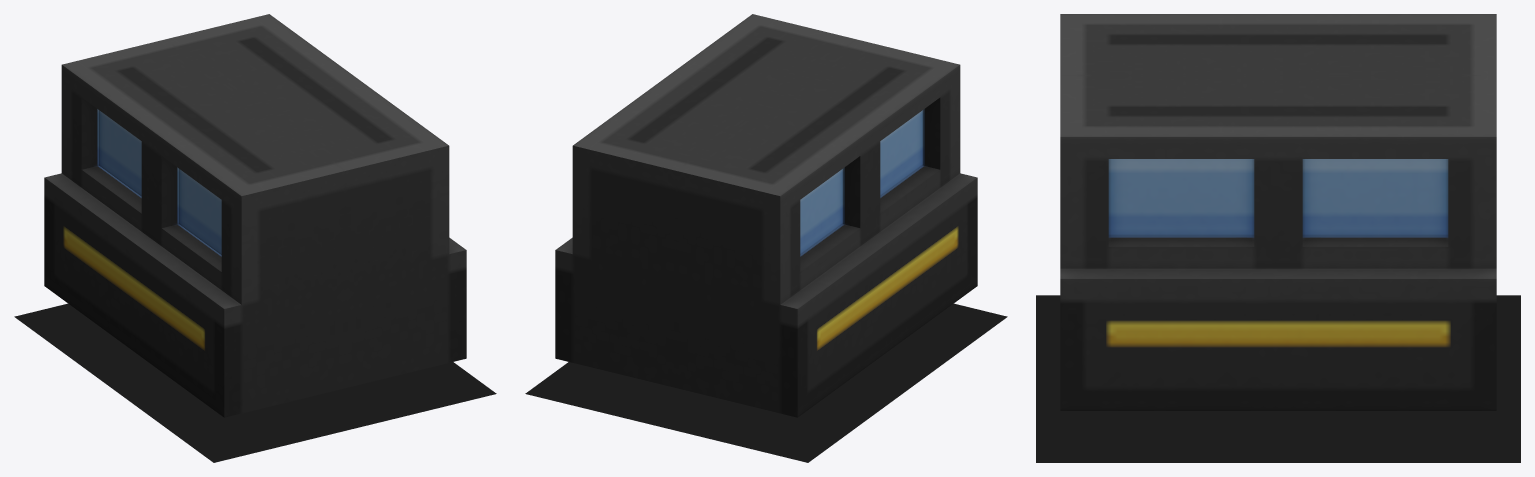
File: limousine_body.FBX
3 views of the same model, side by side, from view 1: azimuth 30°, elevation 25°; view 2: azimuth 150°, elevation 25°; view 3: azimuth 270°, elevation 25° (orthographic). The views are drawn at different scales.
Visible parts, largest first — view 1: limousine_body, limousine_body_soft_shadow; view 2: limousine_body, limousine_body_soft_shadow; view 3: limousine_body, limousine_body_soft_shadow.
Part boxes in pixels (bbox=[...]): limousine_body: bbox=[44, 14, 466, 417]; limousine_body_soft_shadow: bbox=[14, 303, 496, 462]; limousine_body: bbox=[555, 14, 977, 417]; limousine_body_soft_shadow: bbox=[525, 303, 1007, 462]; limousine_body: bbox=[1060, 14, 1496, 410]; limousine_body_soft_shadow: bbox=[1036, 295, 1520, 462].
Size of the model in its own units: 900 by 760 by 1100.
